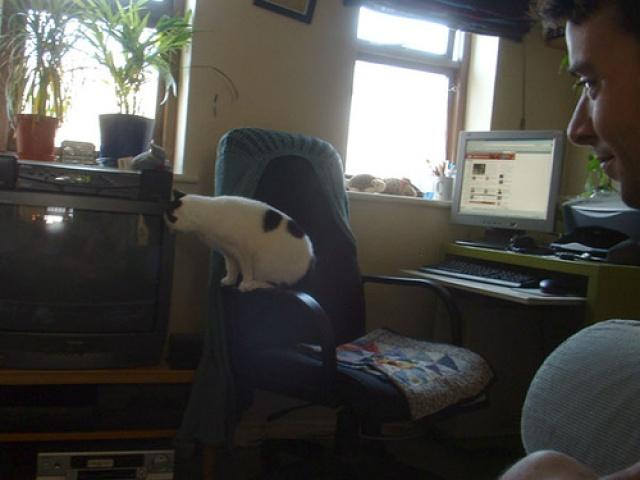AIO PC-Monitor-TV: (449, 128, 566, 249)
Kursi: (204, 126, 497, 424)
